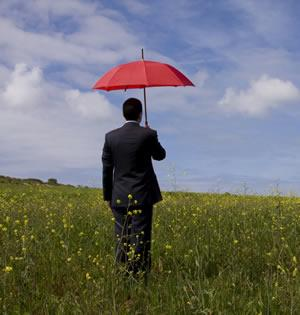person: (102, 98, 167, 286)
